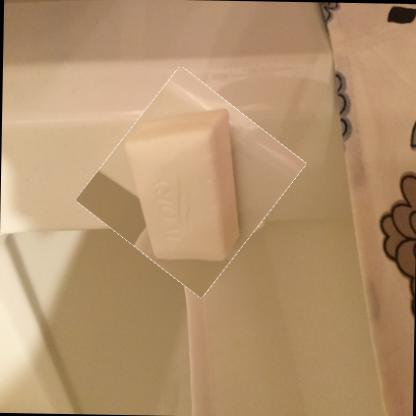soap: (92, 78, 289, 284)
